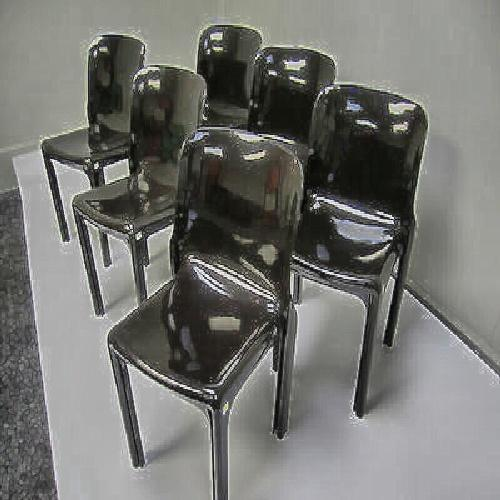chair: (159, 121, 299, 483), (280, 93, 441, 404), (96, 60, 203, 292), (50, 24, 148, 232), (245, 41, 344, 134), (187, 14, 264, 130)
